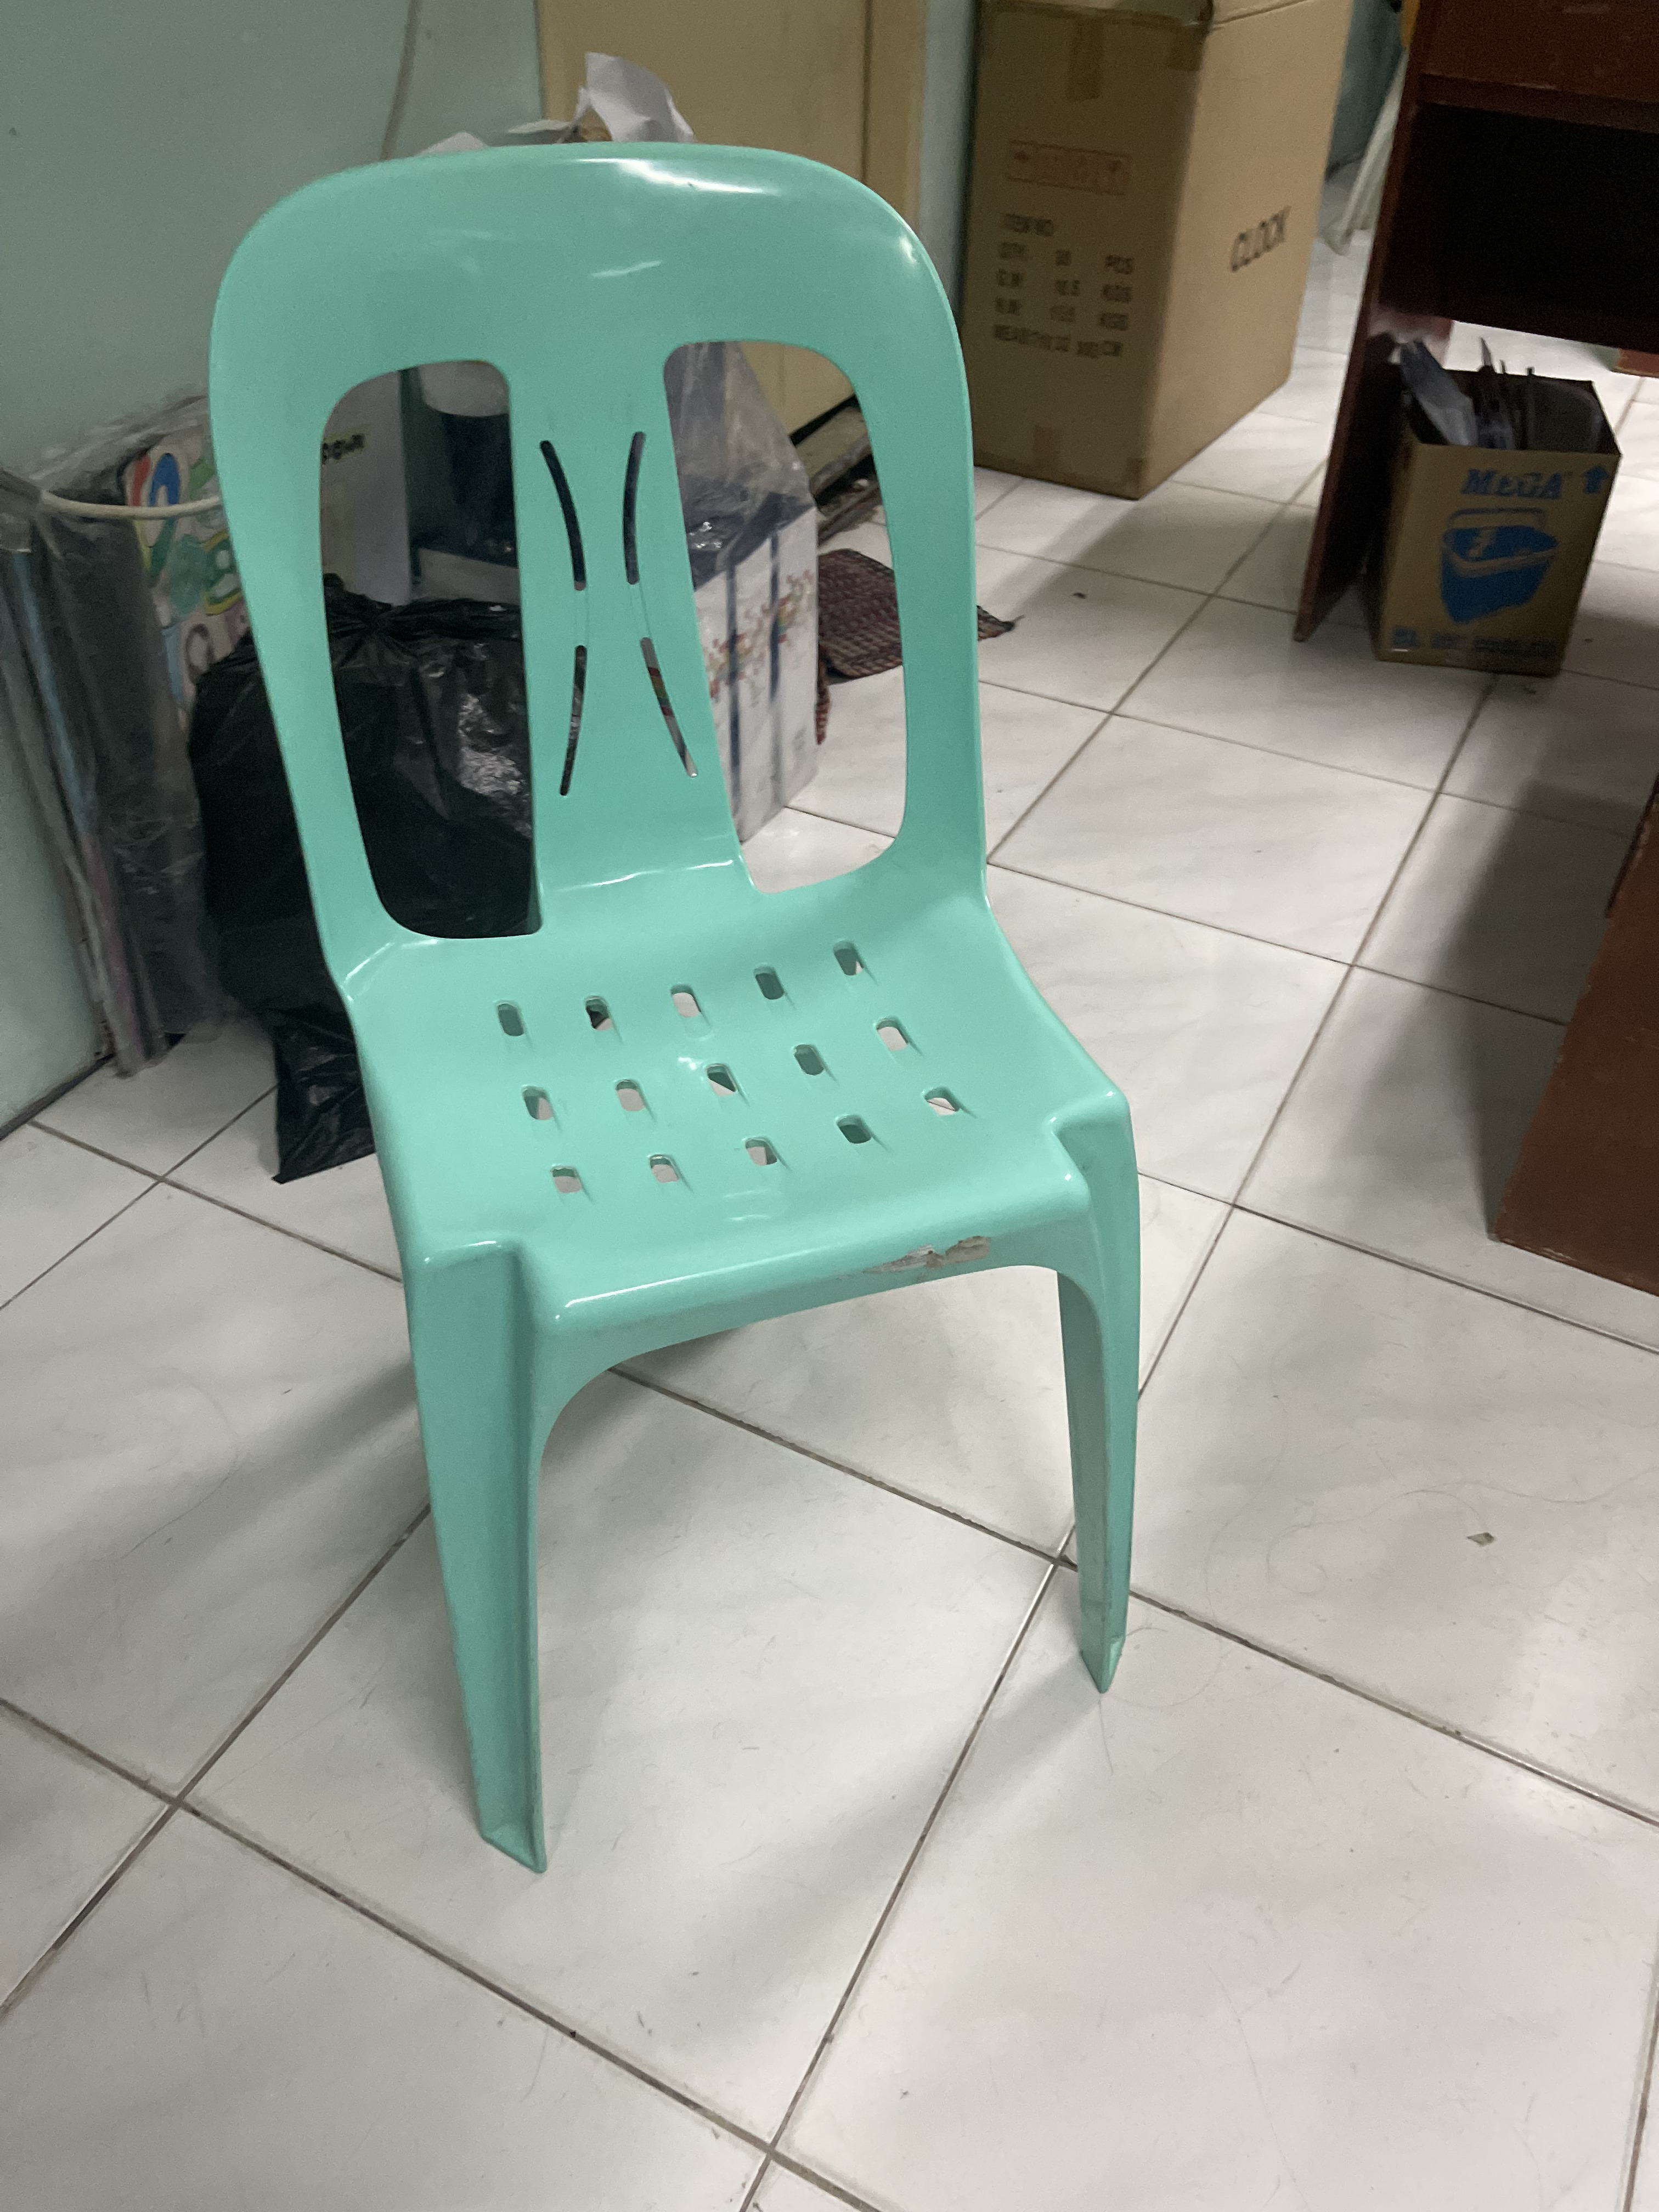chair2: (195, 132, 1155, 1876)
